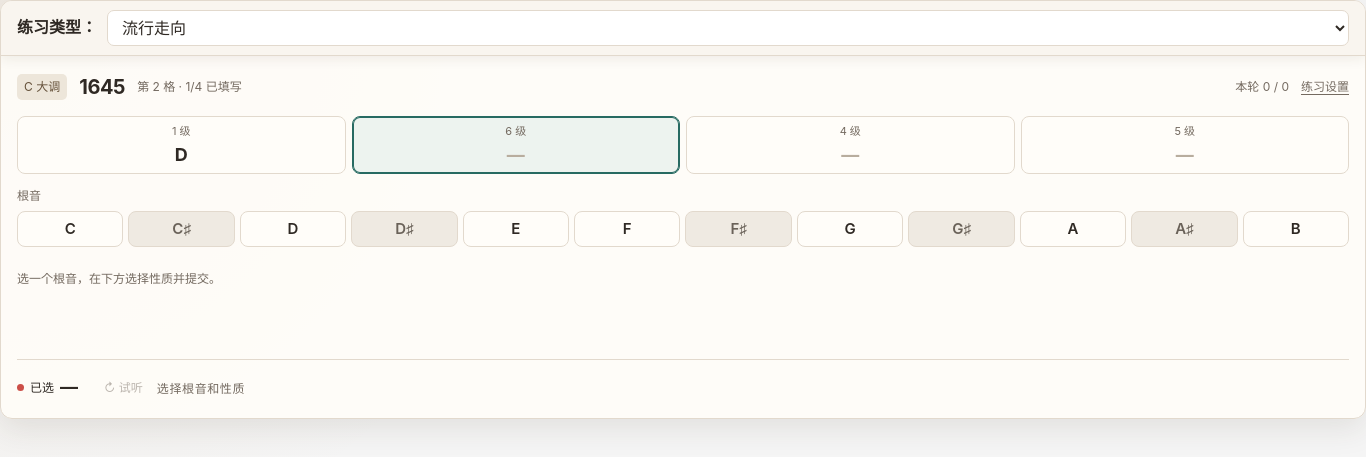
Test case: integrated harmony UI › fills a progression and synchronizes cancellable playback to answer cards
This screenshot has width=1366, height=457.
Earlier steps of the test are not shown.
Later steps or results of the test are not shown.
expect the button "提交答案" is not shown: met
Click the button "A" at [1073, 229], box top-left (1020, 211), bottom-right (1126, 247)
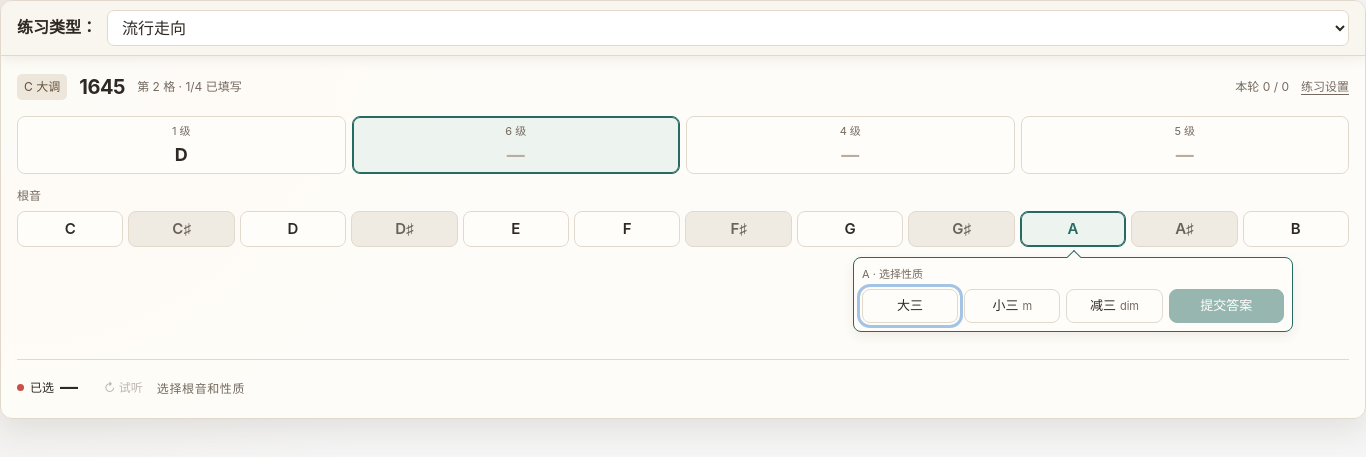
Click the button "小三" at [1012, 306], box top-left (964, 289), bottom-right (1060, 323)
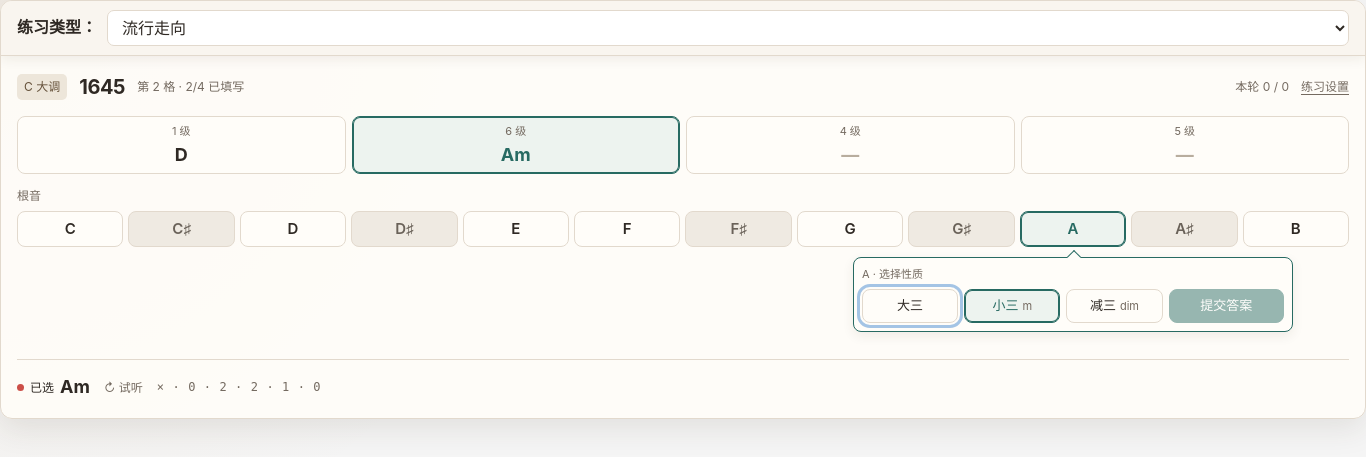
Click the button "4 级 —" at [850, 145], box top-left (686, 116), bottom-right (1014, 174)
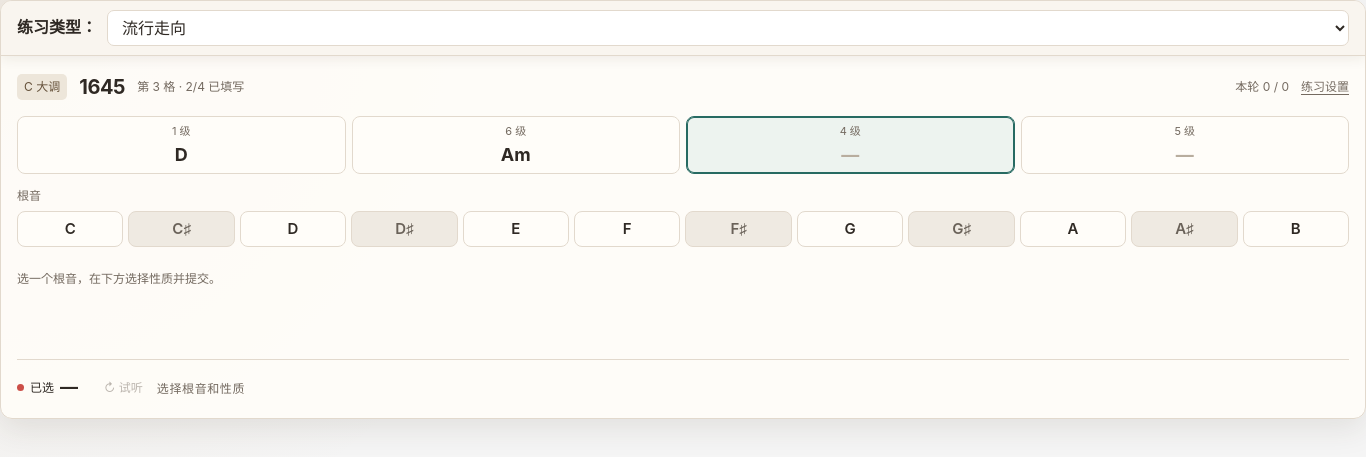
expect the button "提交答案" is gone: met
Click the button "F" at [627, 229], box top-left (574, 211), bottom-right (680, 247)
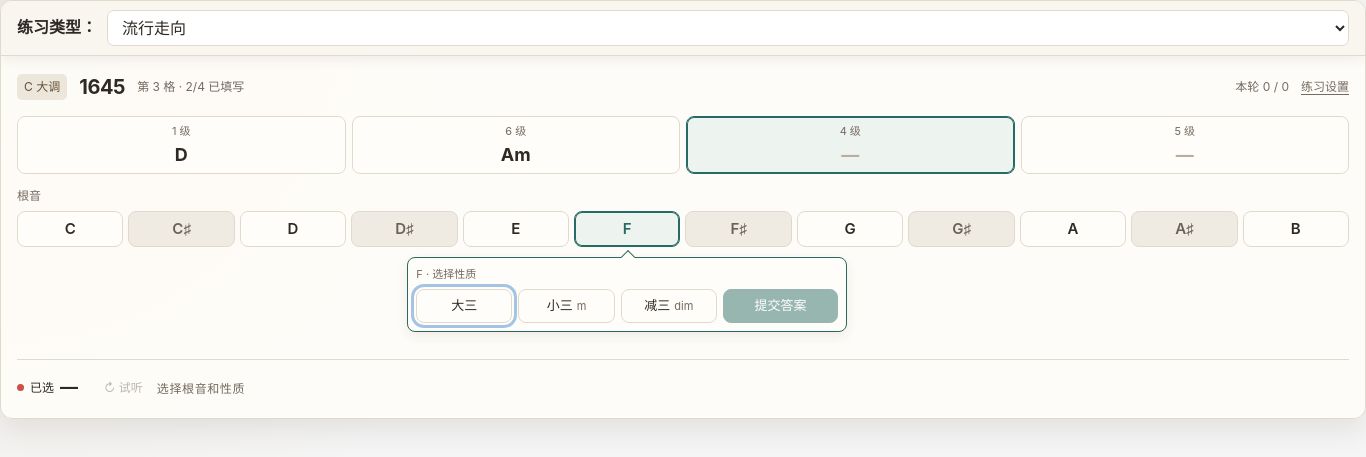
Click the button "大三" at [464, 306], box top-left (416, 289), bottom-right (512, 323)
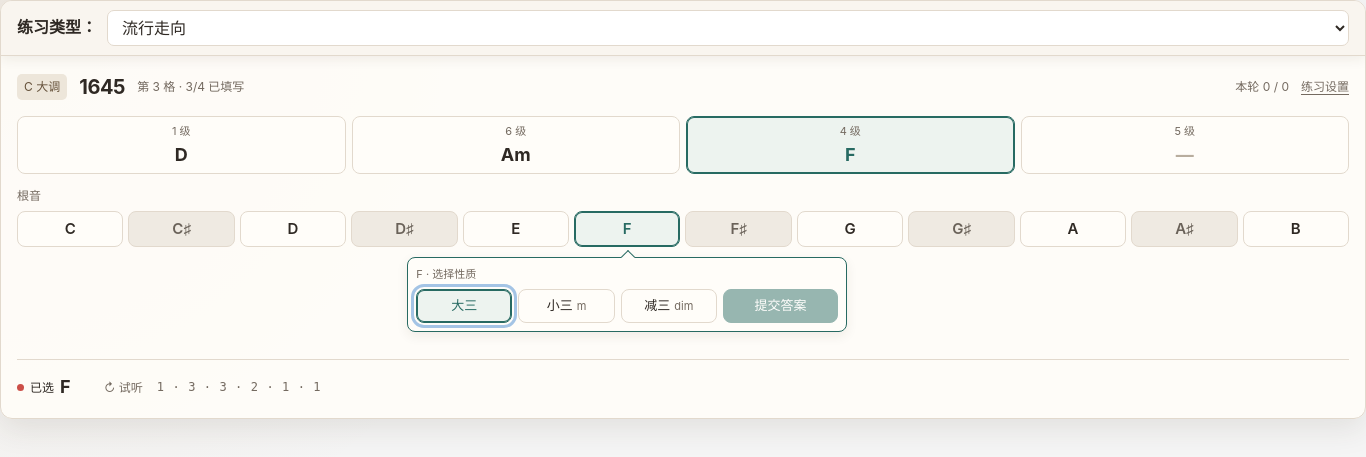
Click the button "5 级 —" at [1185, 145], box top-left (1020, 116), bottom-right (1349, 174)
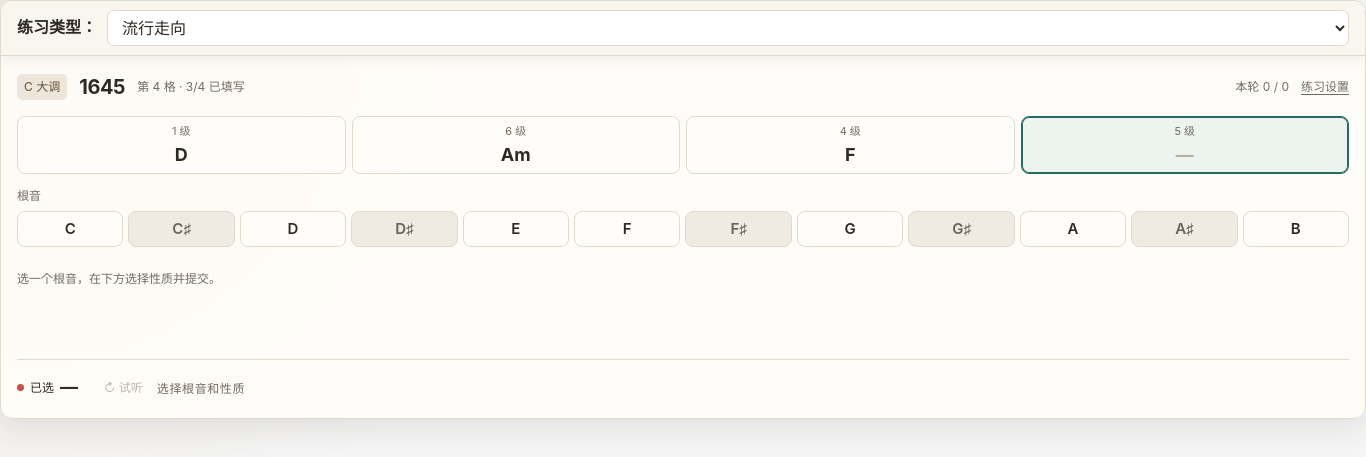
expect the button "提交答案" is gone: met
